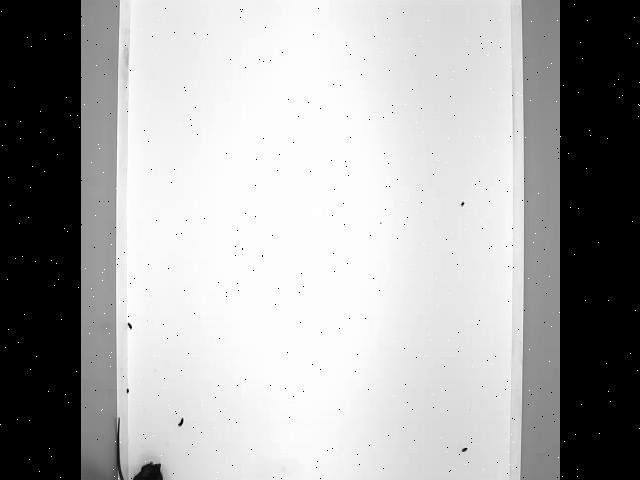Tikus: (111, 416, 166, 480)
